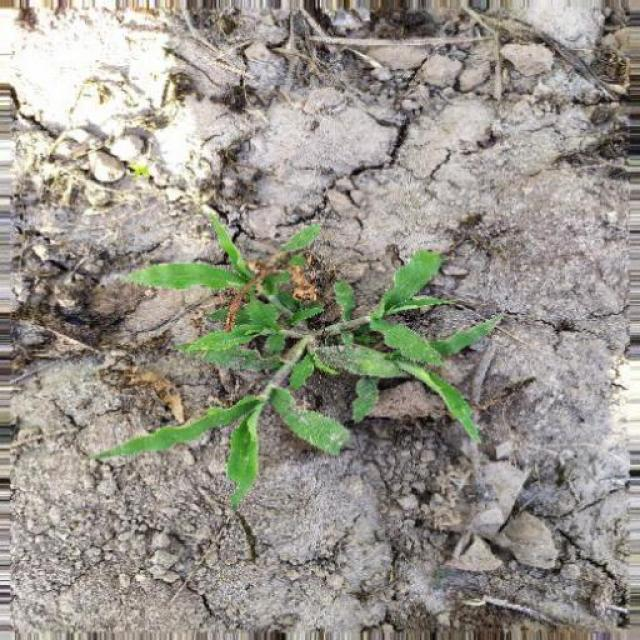weed: (91, 204, 530, 508)
